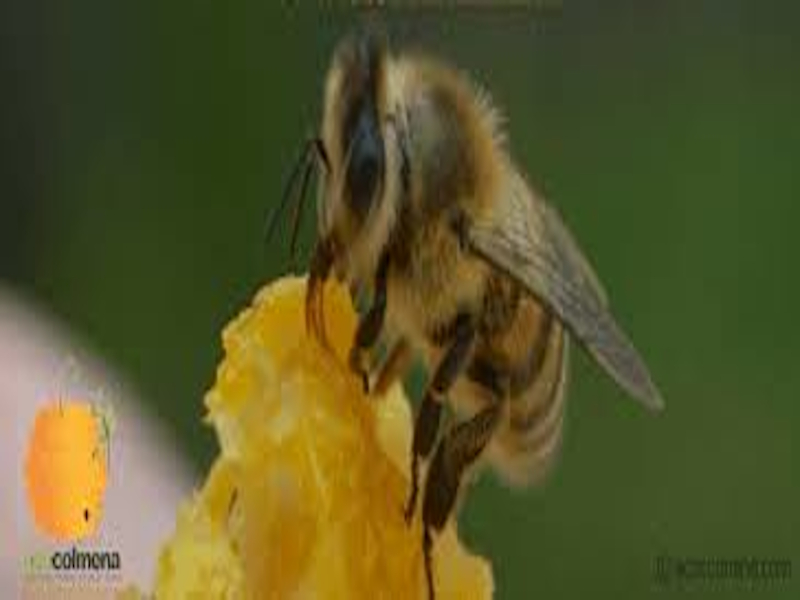abeja: (258, 14, 687, 551)
